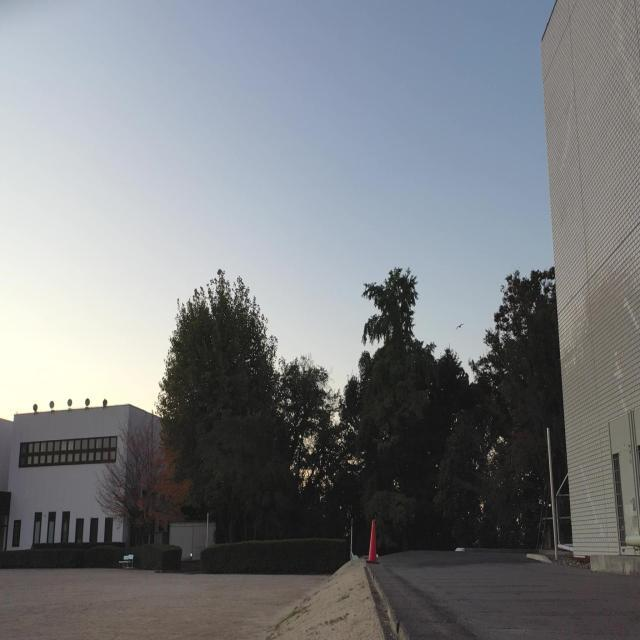Birds: (451, 316, 469, 334)
